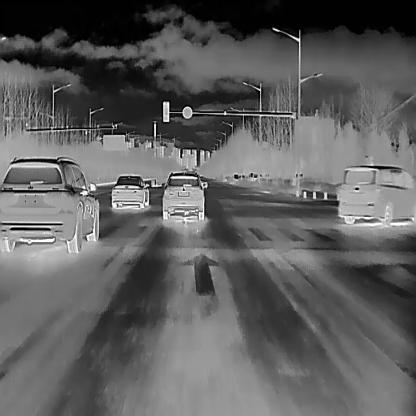car: (0, 155, 98, 252), (336, 163, 415, 226), (160, 170, 208, 218), (111, 174, 148, 207), (232, 173, 240, 180)
